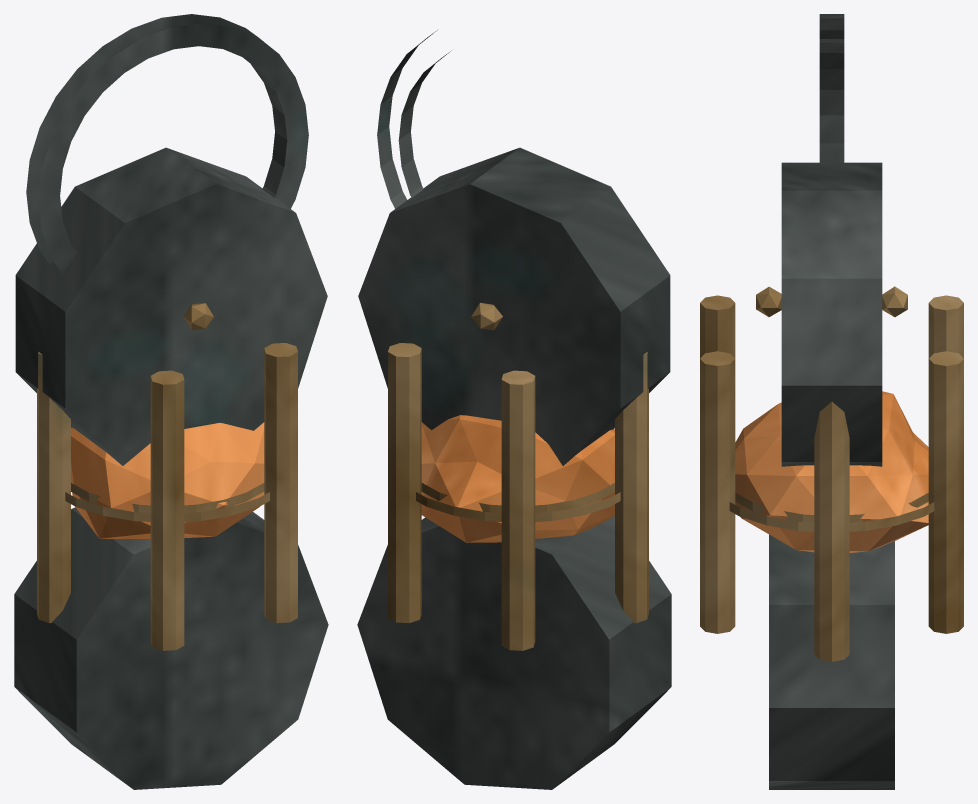
File: 0901_lantern_01.glb
3 views of the same model, side by side, from view 1: azimuth 30°, elevation 25°; view 2: azimuth 150°, elevation 25°; view 3: azimuth 270°, elevation 25° (orthographic).
Parts seen in each view (by area): view 1: iron, brass, amber; view 2: iron, brass, amber; view 3: iron, brass, amber.
Boxes of the visible parts, bbox=[...] form: iron: bbox=[14, 14, 328, 789]; brass: bbox=[37, 303, 297, 650]; amber: bbox=[71, 422, 264, 538]; iron: bbox=[357, 30, 671, 789]; brass: bbox=[388, 302, 648, 650]; amber: bbox=[421, 415, 614, 542]; iron: bbox=[769, 14, 894, 789]; brass: bbox=[700, 286, 963, 661]; amber: bbox=[735, 391, 928, 552].
Bounding box in the file's own units: 0.5 × 1.32 × 0.4197.
3 materials, 3 textured.
